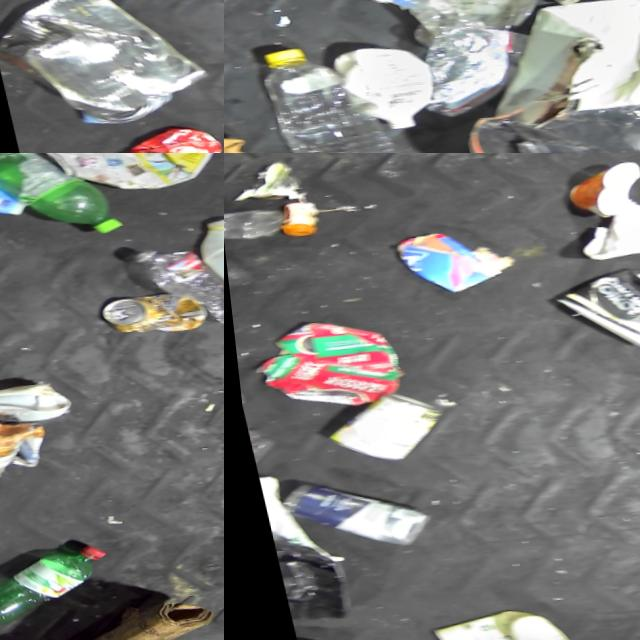can: (0, 0, 206, 138), (241, 309, 402, 416), (312, 386, 447, 468), (104, 119, 218, 153), (232, 379, 240, 411)
milk_jug: (321, 37, 434, 134), (185, 202, 224, 339), (0, 373, 65, 427)
plastic_bottle: (246, 34, 397, 153), (123, 233, 224, 332), (224, 202, 286, 245)
